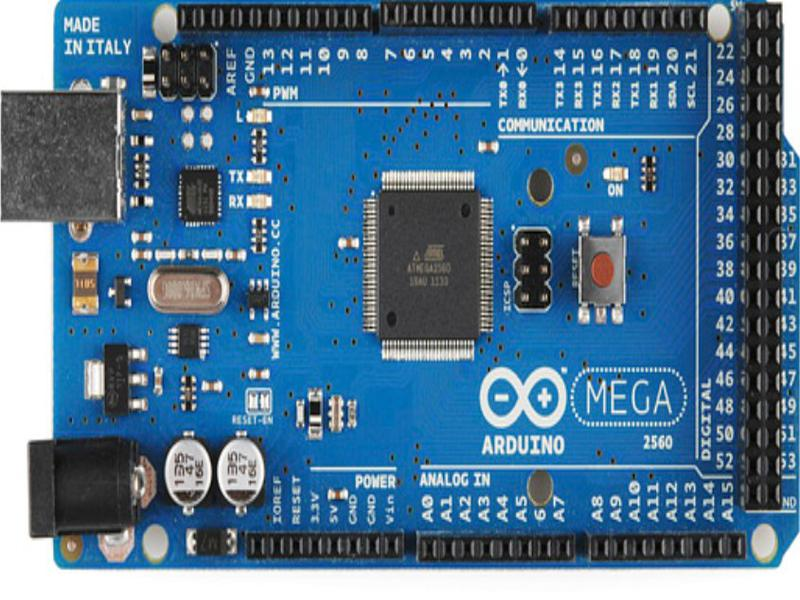Arduino Mega: (7, 1, 800, 576)
